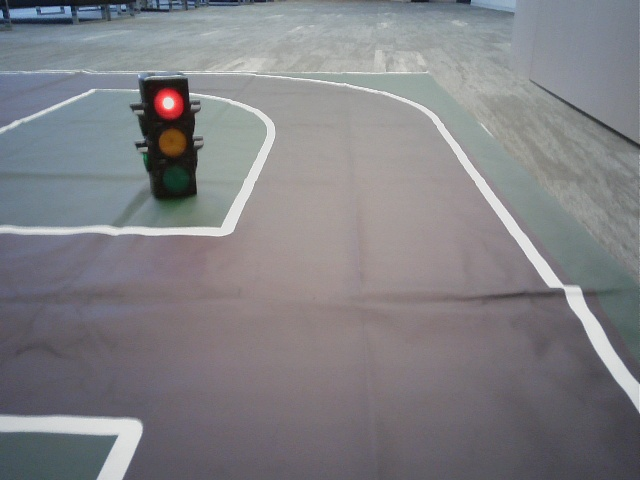red: (151, 84, 192, 191)
